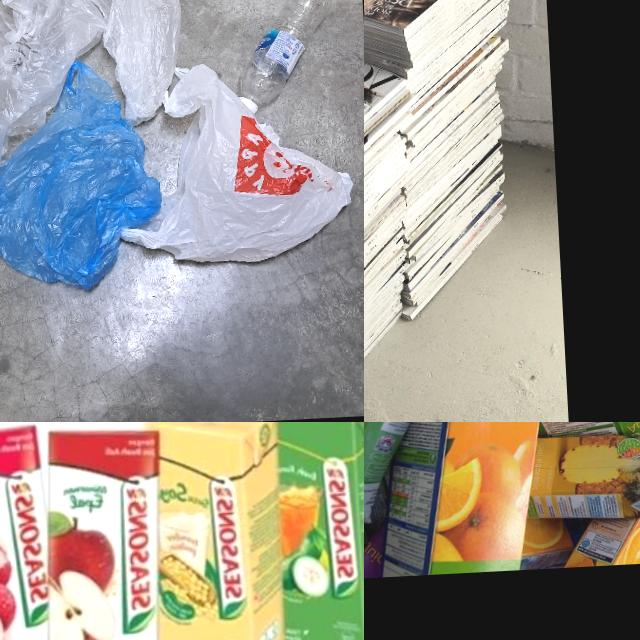caixinha: (144, 422, 290, 640), (37, 422, 175, 640), (369, 422, 554, 576), (260, 422, 364, 640), (364, 422, 523, 529), (0, 422, 51, 640)
garrafa plástica: (237, 0, 336, 104)
papel: (364, 0, 537, 422)
sacola plástica: (118, 61, 354, 264), (0, 64, 159, 297), (0, 0, 96, 168), (68, 0, 186, 123)
tampa plástica: (240, 92, 262, 112)
